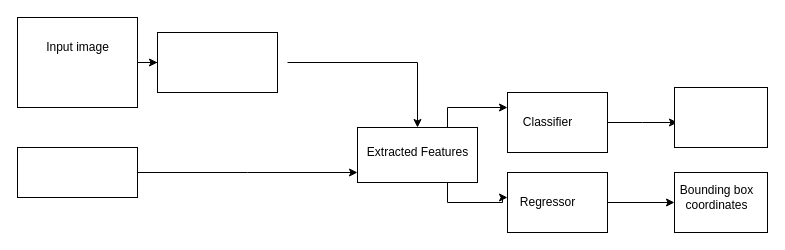
Image size: 785x250. Some labels were removed from this diagram. Each missing label, with the centre of its shape:
Bounding box: point 77,172
Class: point 721,117
ResNet34 classification backbone: point 217,62
